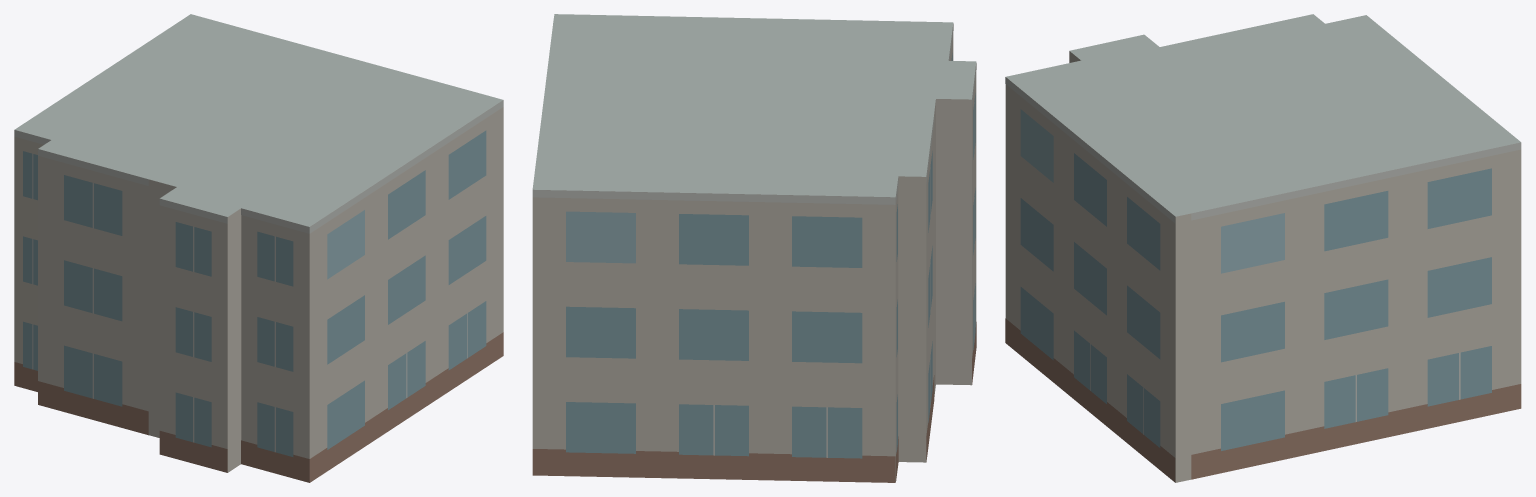
The model's file is survey-upis-32836442.glb.
3 views of the same model, side by side, from view 1: azimuth 30°, elevation 25°; view 2: azimuth 150°, elevation 25°; view 3: azimuth 270°, elevation 25° (orthographic). The views are drawn at different scales.
Visible parts, largest first — view 1: survey-upis-32836442.tmp; view 2: survey-upis-32836442.tmp; view 3: survey-upis-32836442.tmp.
Boxes of the visible parts, x1,y1,x2,y2 form: survey-upis-32836442.tmp: (14,14,503,482); survey-upis-32836442.tmp: (532,14,976,482); survey-upis-32836442.tmp: (1005,14,1521,482).
Size of the model in its own units: 14.95 by 9.15 by 16.08.
